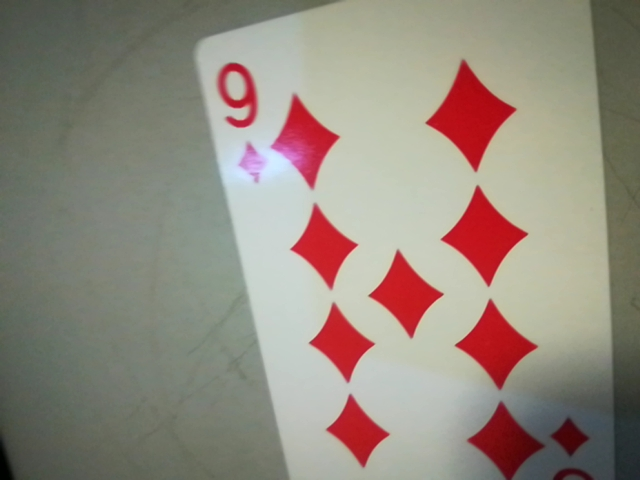fk 9: (205, 52, 278, 189)
